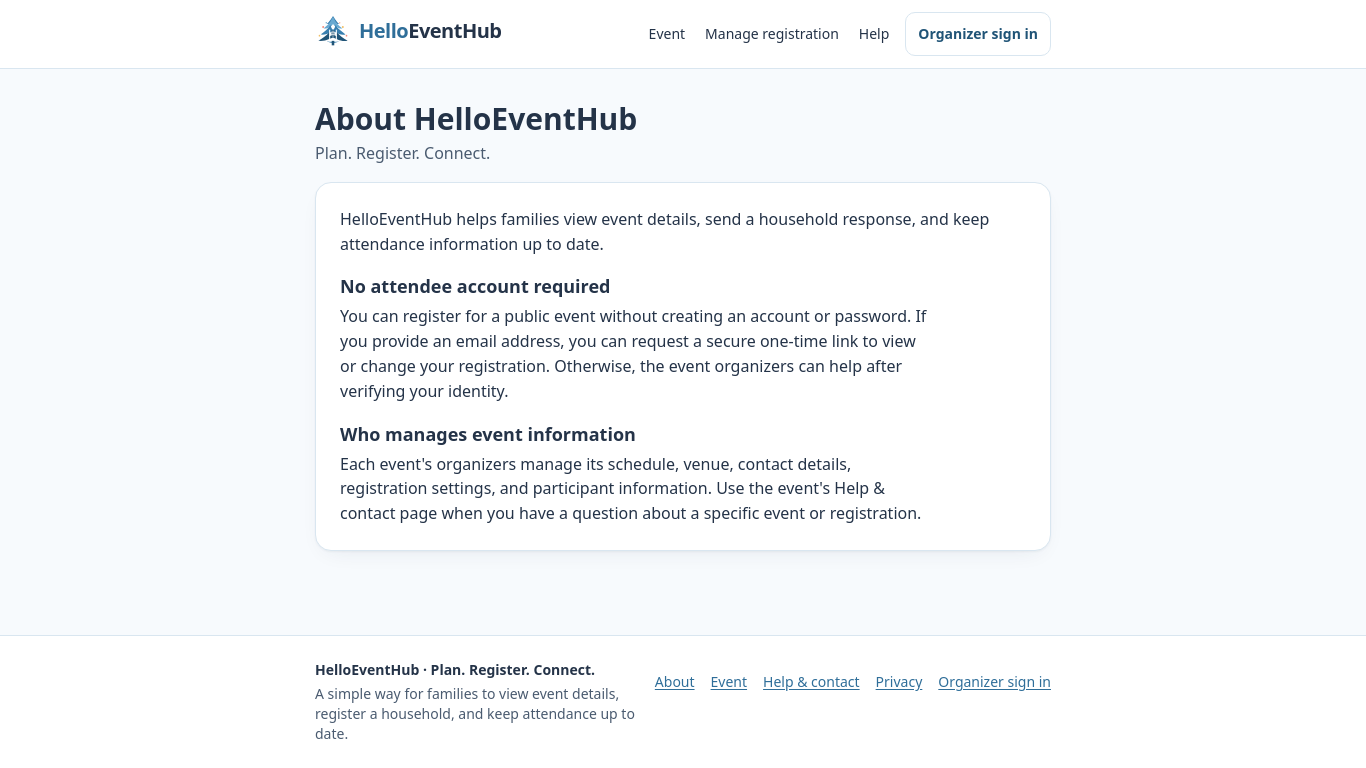
public interface › provides site context and an active public navigation destination
Expected: the heading "About HelloEventHub" is shown, x1=315 y1=98 x2=637 y2=139
Expected: the navigation bar named "Site information" shows "Organizer sign in", x1=938 y1=660 x2=1051 y2=704
Click the link "Event" next to "Manage registration".
click(667, 34)  # box x1=649 y1=24 x2=685 y2=43
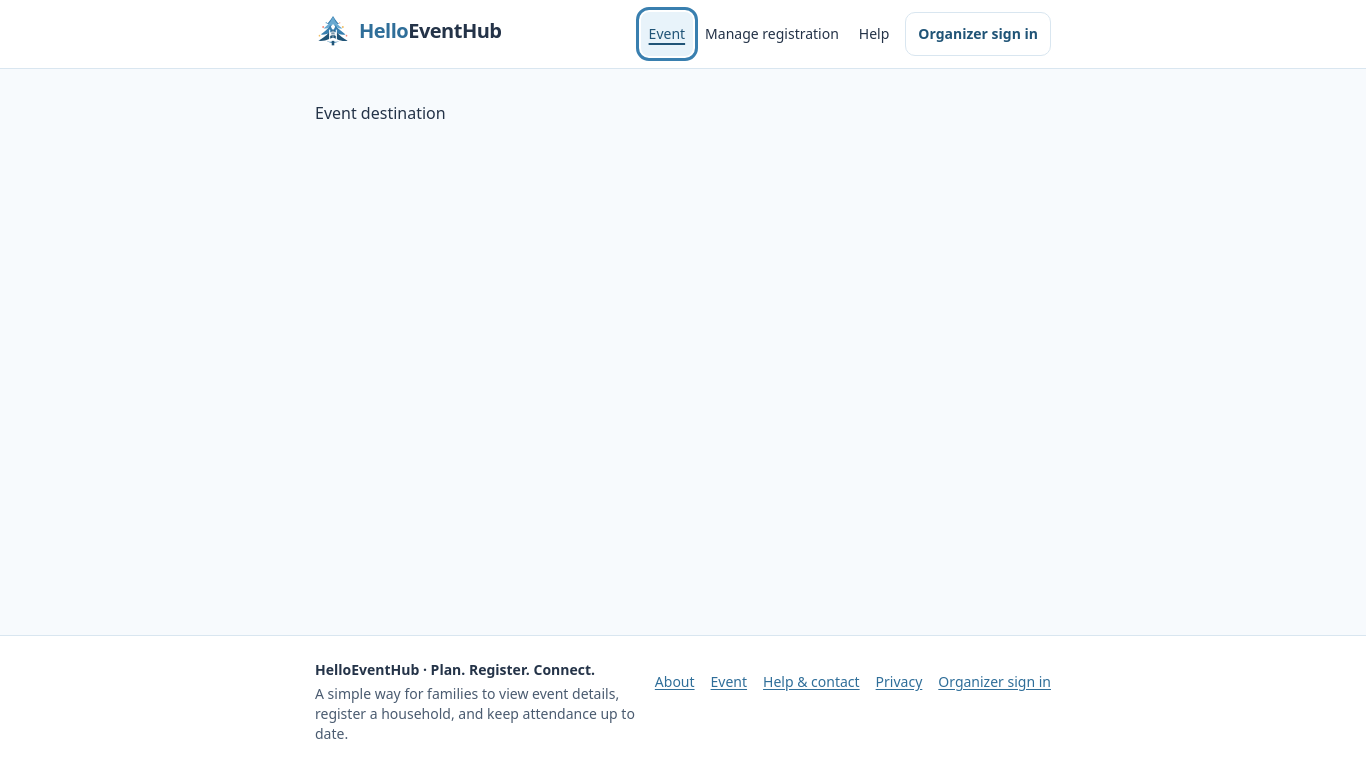
Expected: the text "Event destination" is shown, x1=315 y1=102 x2=446 y2=124
